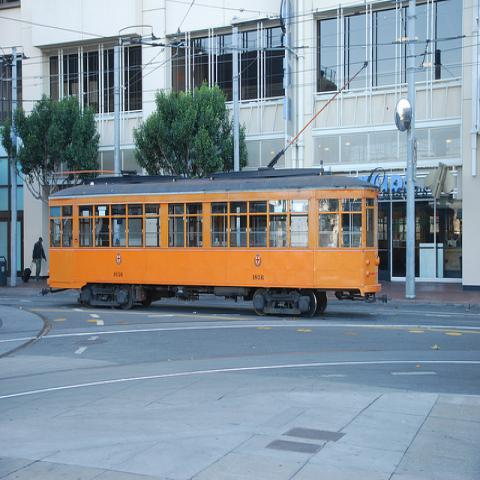bus: (49, 167, 380, 316)
